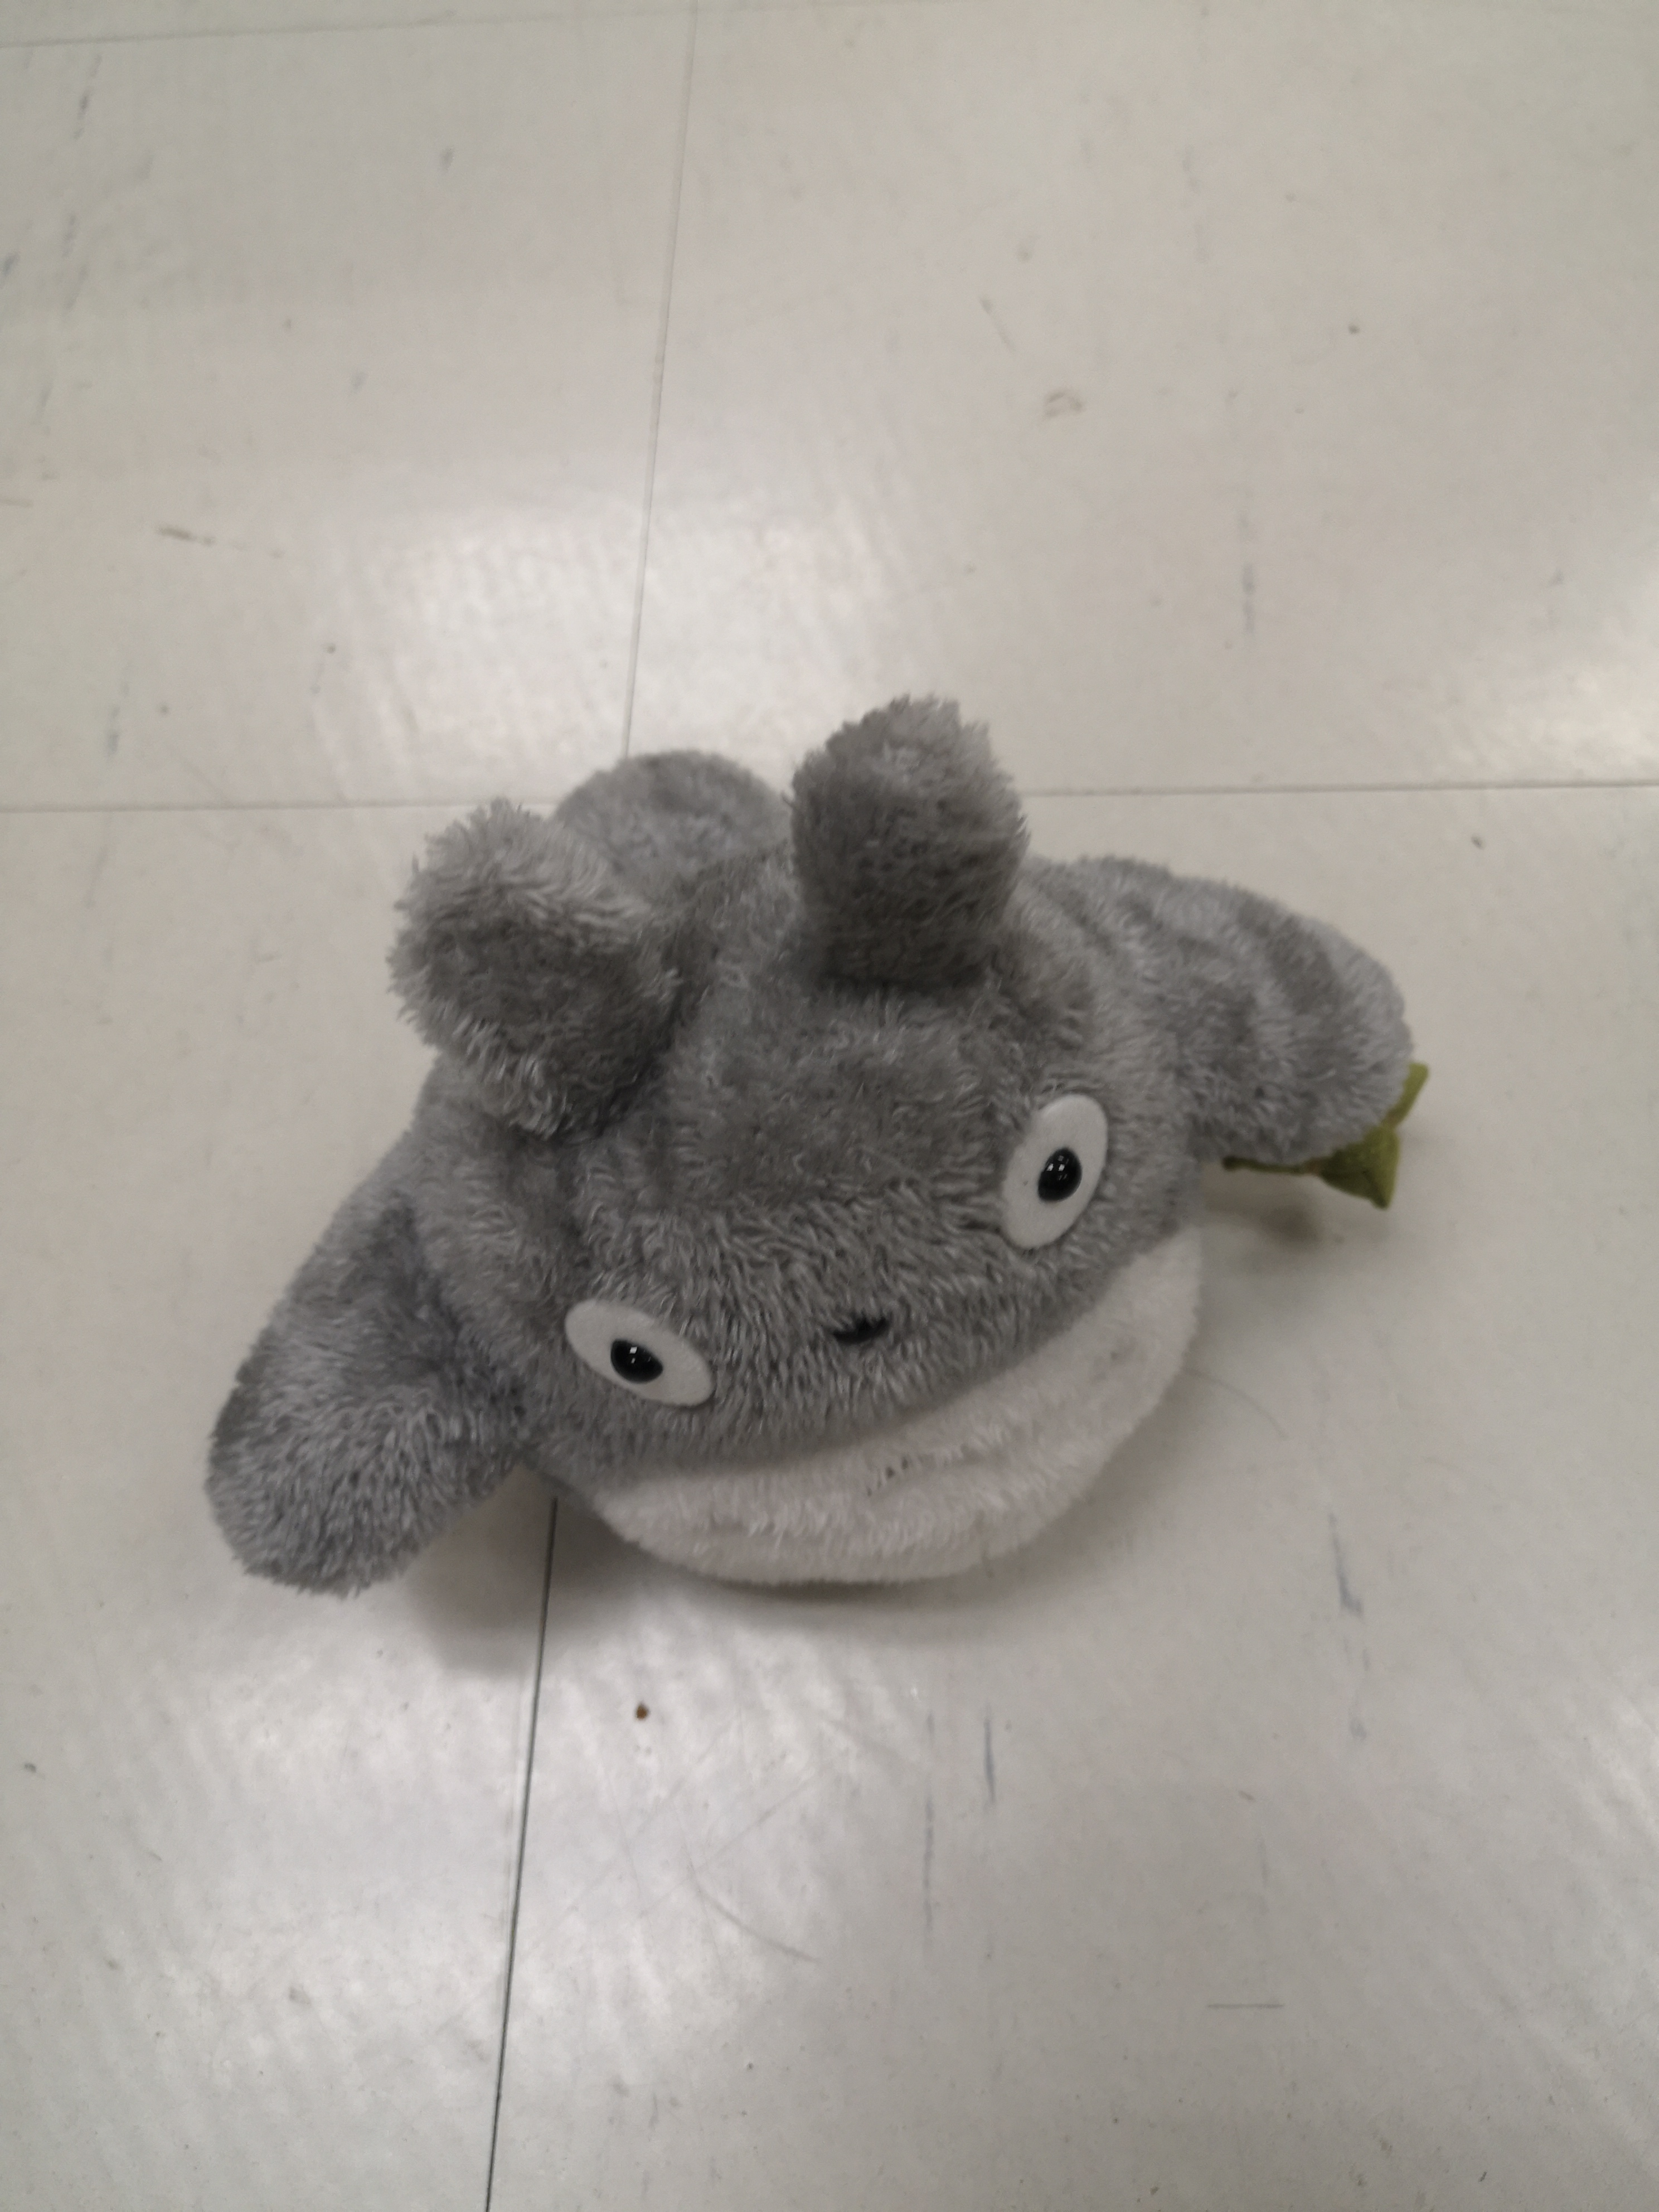totoro: (197, 683, 1429, 1609)
